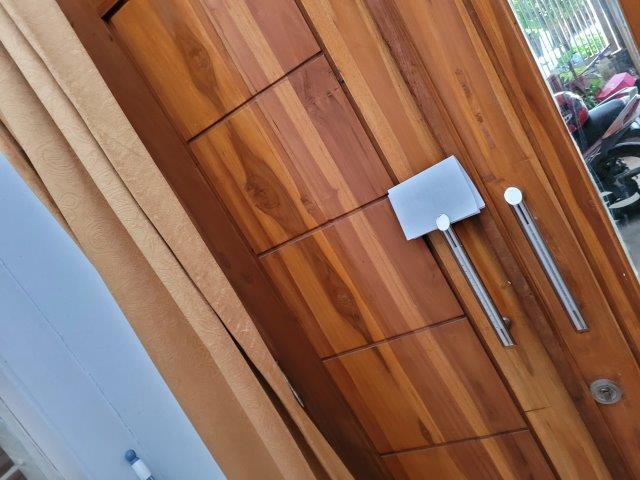kertas: (387, 155, 486, 237)
